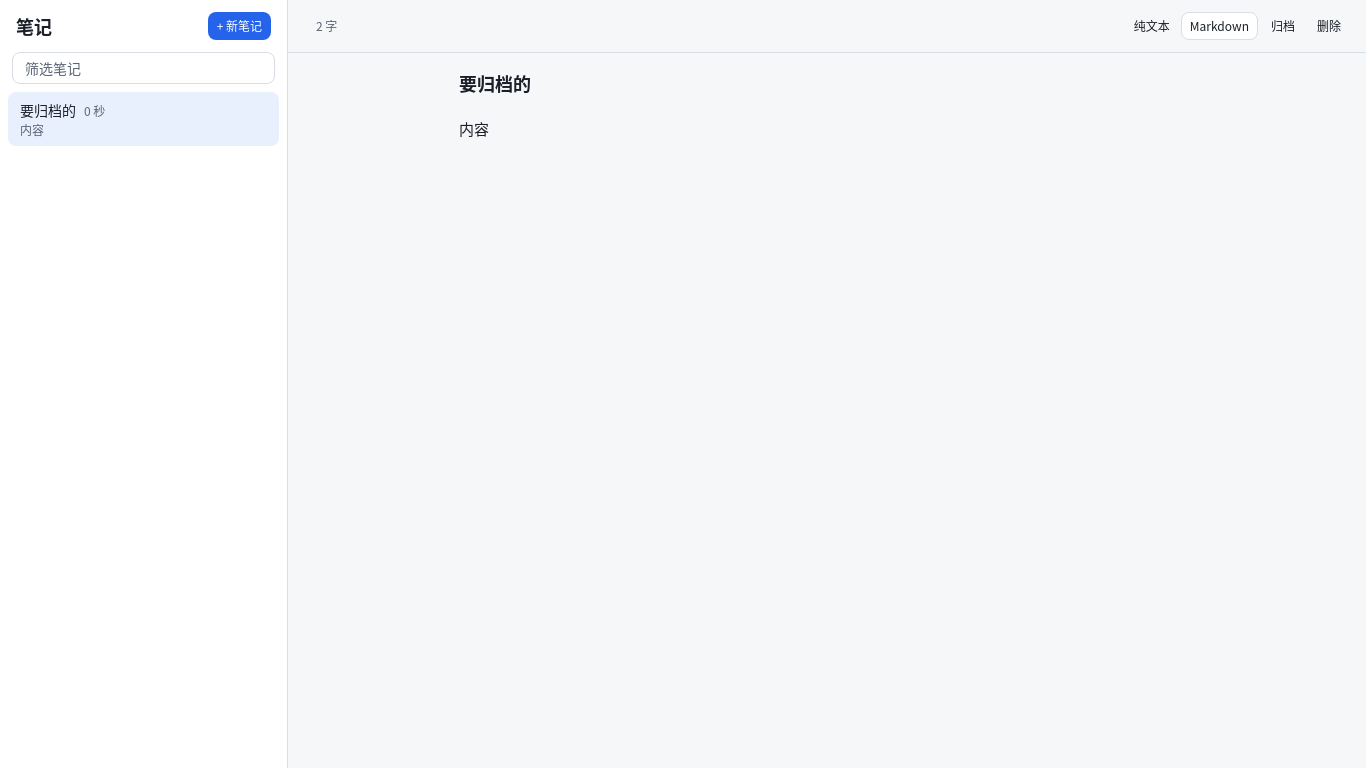
Test: NotesPage › 归档：笔记离开列表，给出可撤销的提示，撤销后回来
This screenshot has width=1366, height=768.
Expected: the field named "标题" is shown, [459,69,1195,97]
Click the button "归档".
click(1283, 26)  # box [1262,12,1304,40]
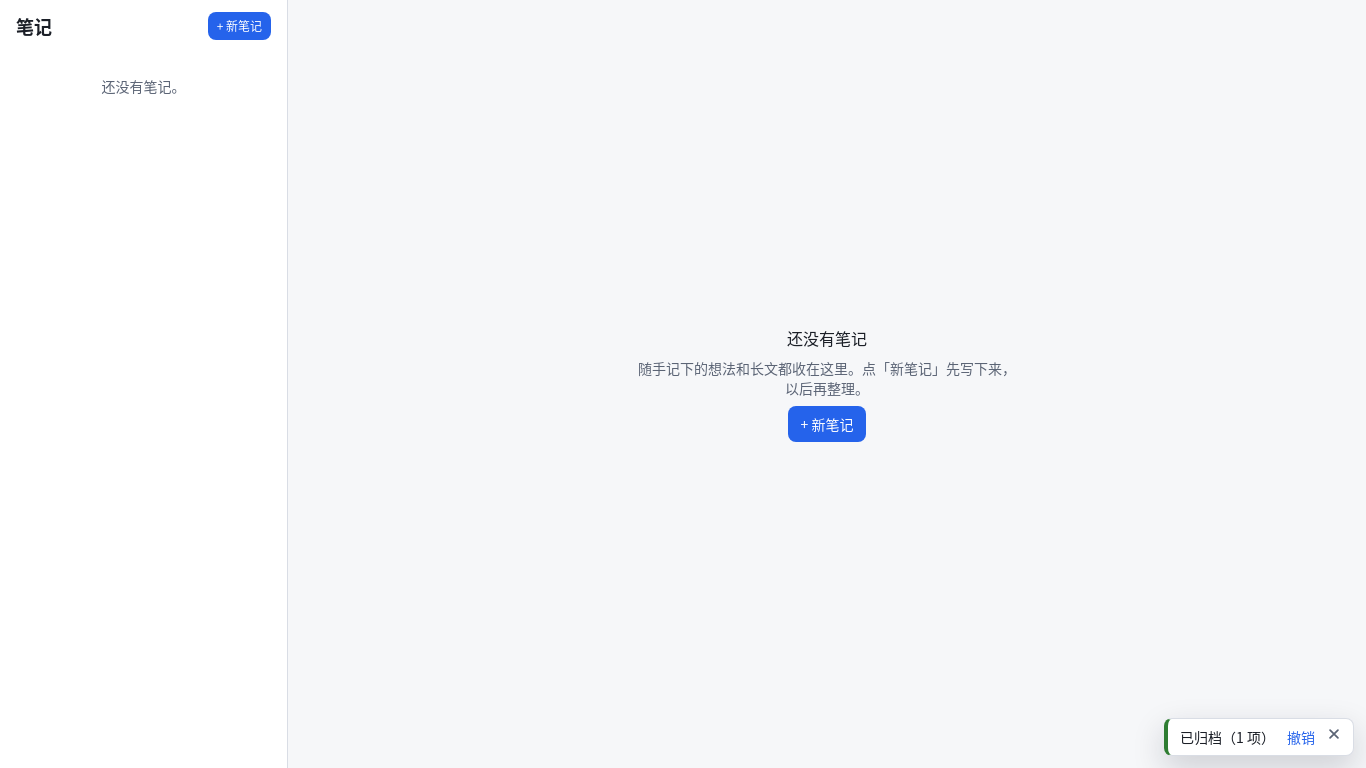
Expected: the text "还没有笔记" is shown, [787,326,867,350]
